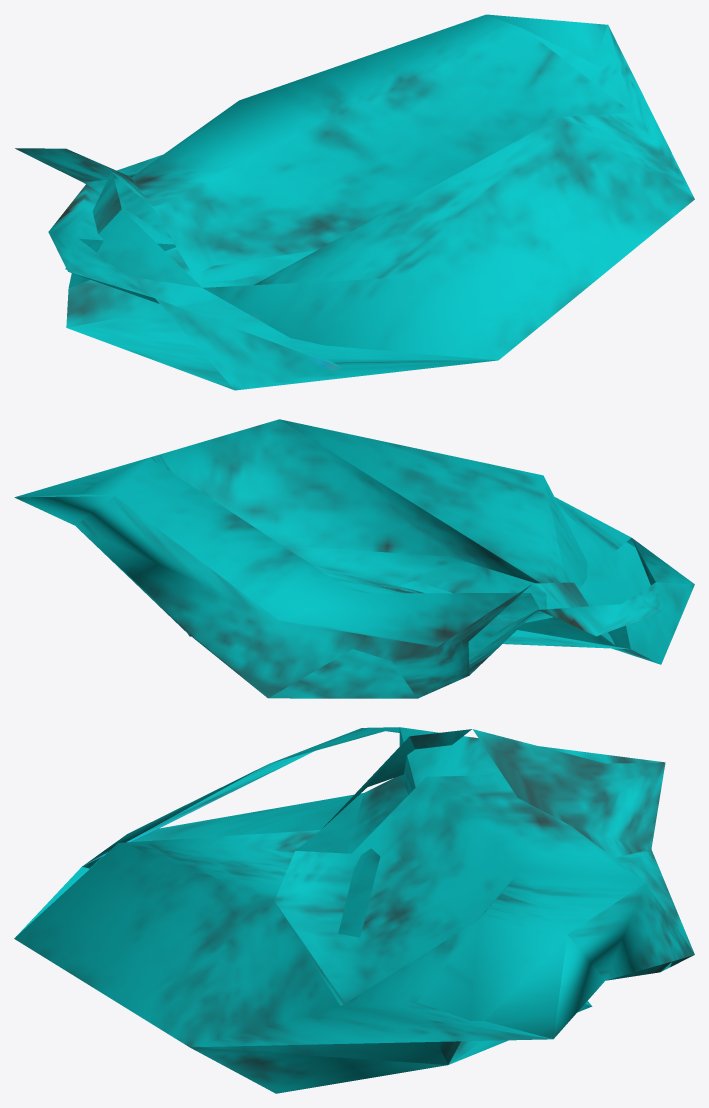
The model's file is Garbage_Plastic_Bag_01.fbx.
The picture shows the model from 3 angles, top to bottom: view 1: azimuth 30°, elevation 25°; view 2: azimuth 150°, elevation 25°; view 3: azimuth 270°, elevation 25°; orthographic projection. The views are drawn at different scales.
Parts seen in each view (by area): view 1: Garbage_Plastic_Bag_01; view 2: Garbage_Plastic_Bag_01; view 3: Garbage_Plastic_Bag_01.
Part boxes in pixels (x1,y1,x2,y2): Garbage_Plastic_Bag_01: [15, 14, 694, 390]; Garbage_Plastic_Bag_01: [14, 419, 694, 698]; Garbage_Plastic_Bag_01: [14, 727, 694, 1093].
Bounding box in the file's own units: 5.89 × 1.28 × 4.83.
